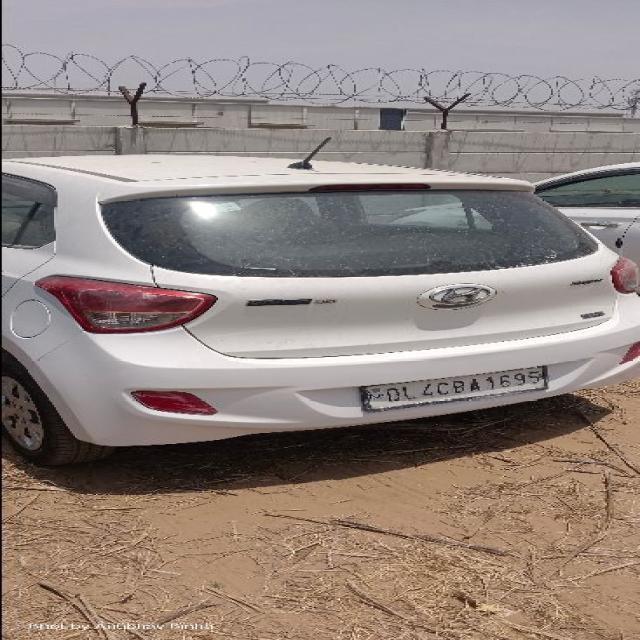license_plate: (358, 364, 550, 412)
